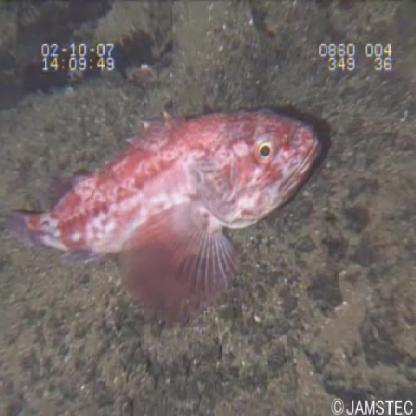Bio: (3, 99, 332, 332)
